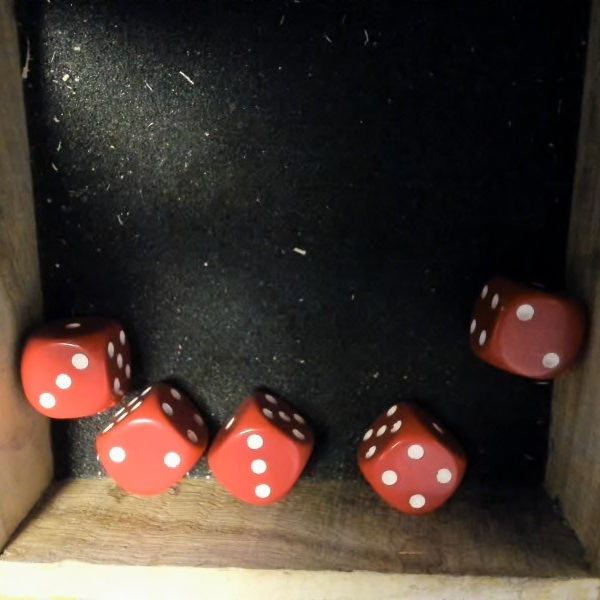red_die_pip2: (78, 363, 237, 520), (452, 266, 594, 397)
red_die_pip3: (191, 376, 337, 526), (17, 318, 134, 424)
red_die_pip4: (334, 389, 477, 532)
